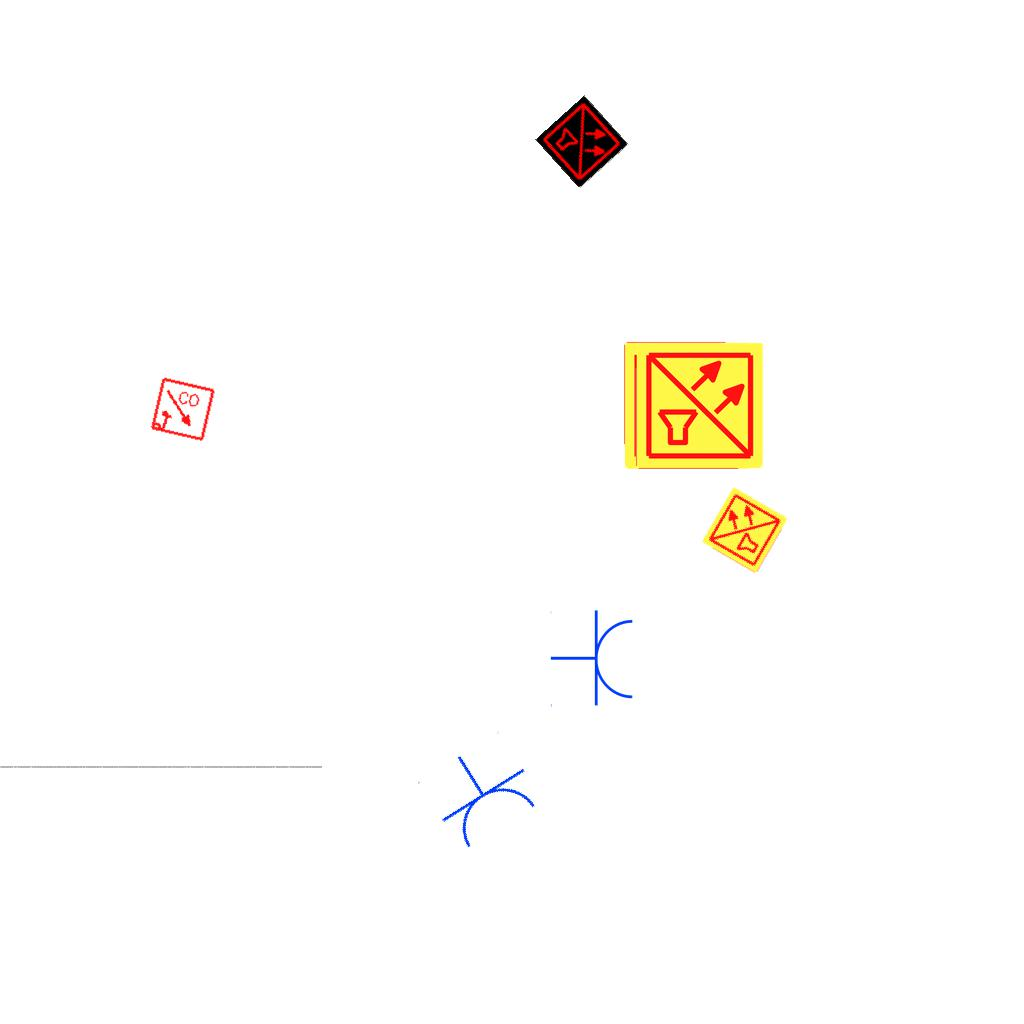OKW_Multisensormelder_(Kombination_optischer_Rauch-Kahlenmonoxid_Waerme-Melder): (621, 340, 753, 472), (634, 340, 766, 472), (535, 95, 629, 189), (699, 484, 791, 576)
ROA_Rauchmelder_optisch_mit_Signalgeber_(Sockelsirene): (149, 376, 217, 444)
Schukosteckdose_einfach: (415, 730, 547, 857), (550, 609, 637, 709)
